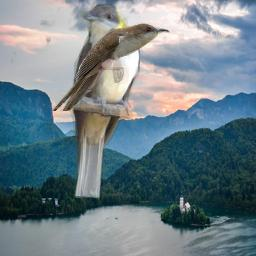Cuckoo: (69, 4, 140, 198), (52, 23, 170, 111)
